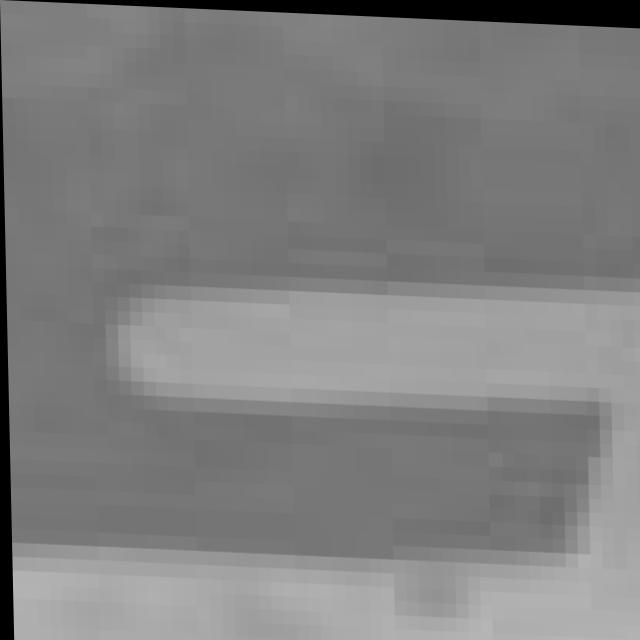fracture: (11, 2, 640, 640)
